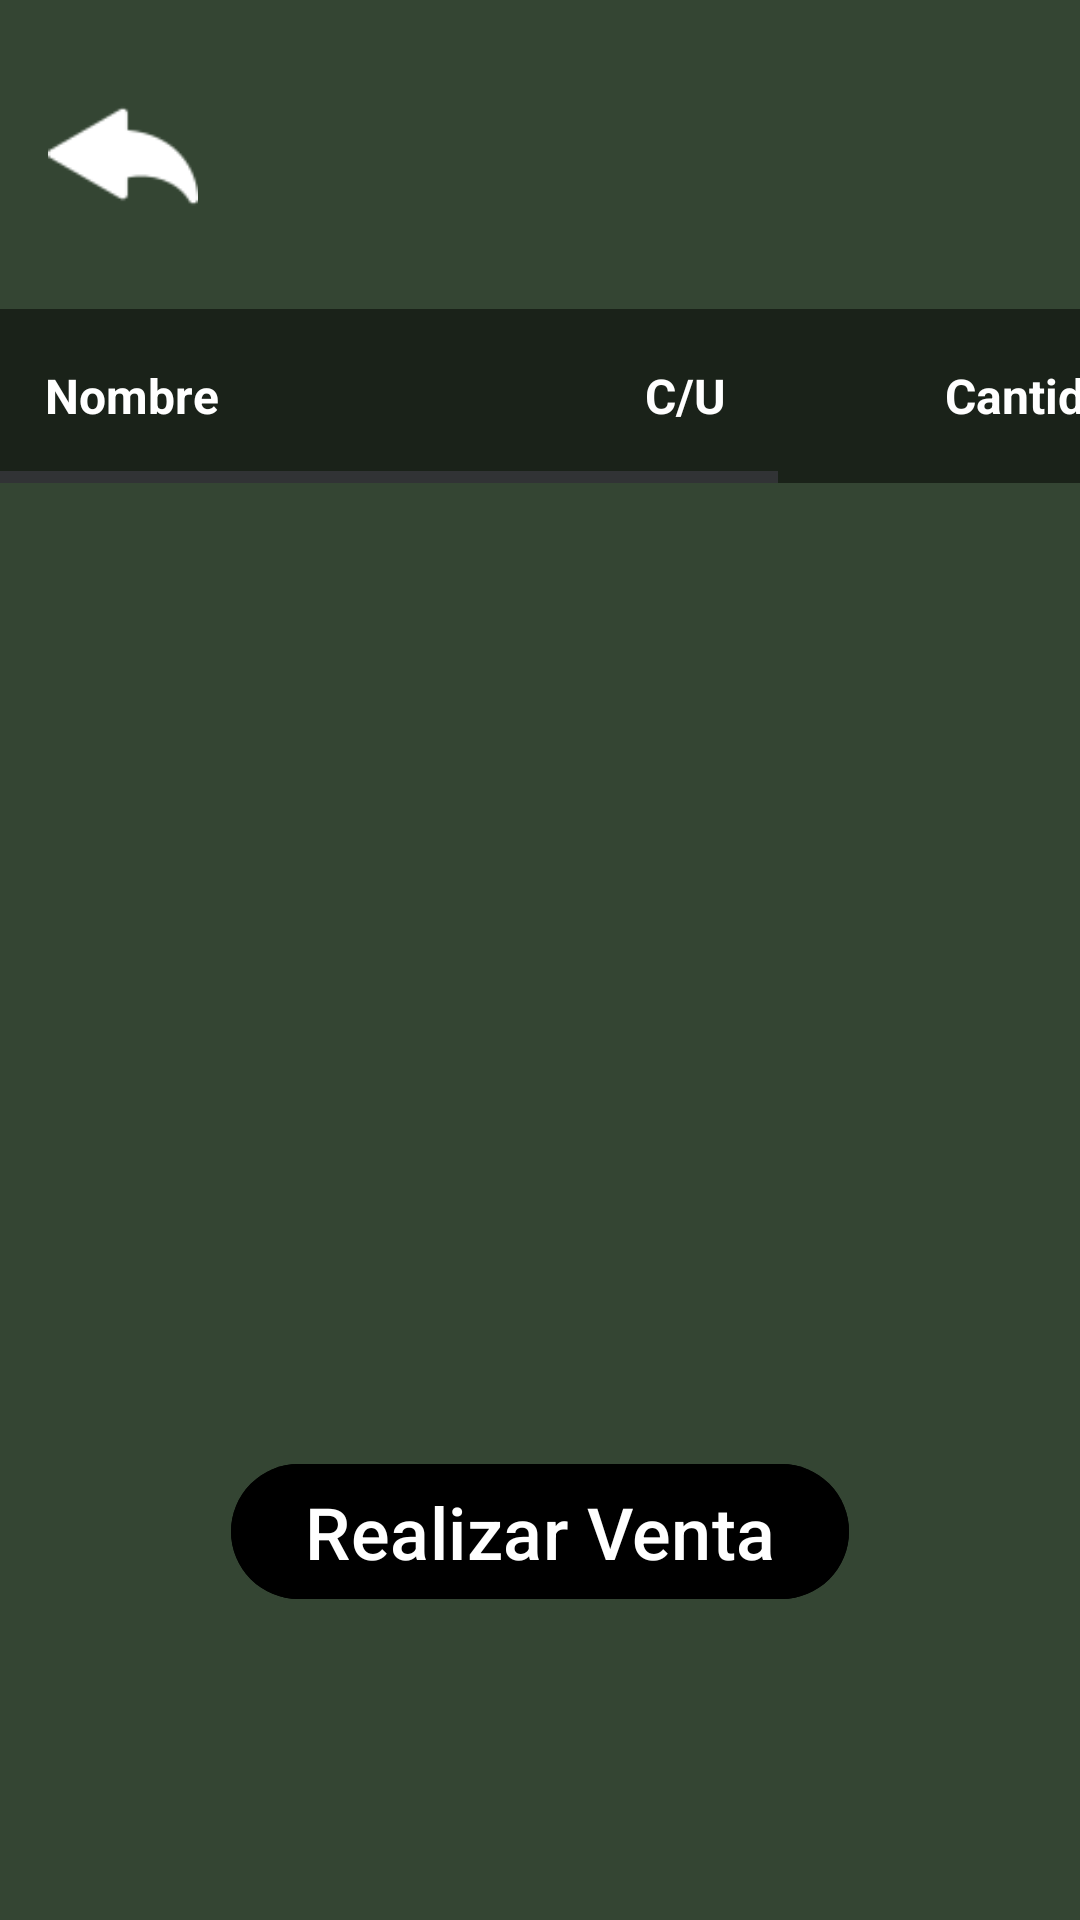

Screen size 1080px x 1920px. Icon name, then its center in pixels as [x,y]:
izquierda: [123,156]
